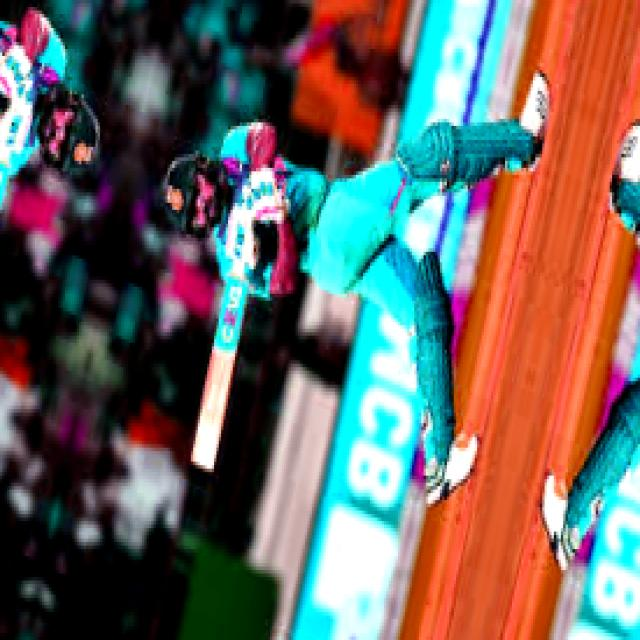toe: (190, 433, 218, 479)
